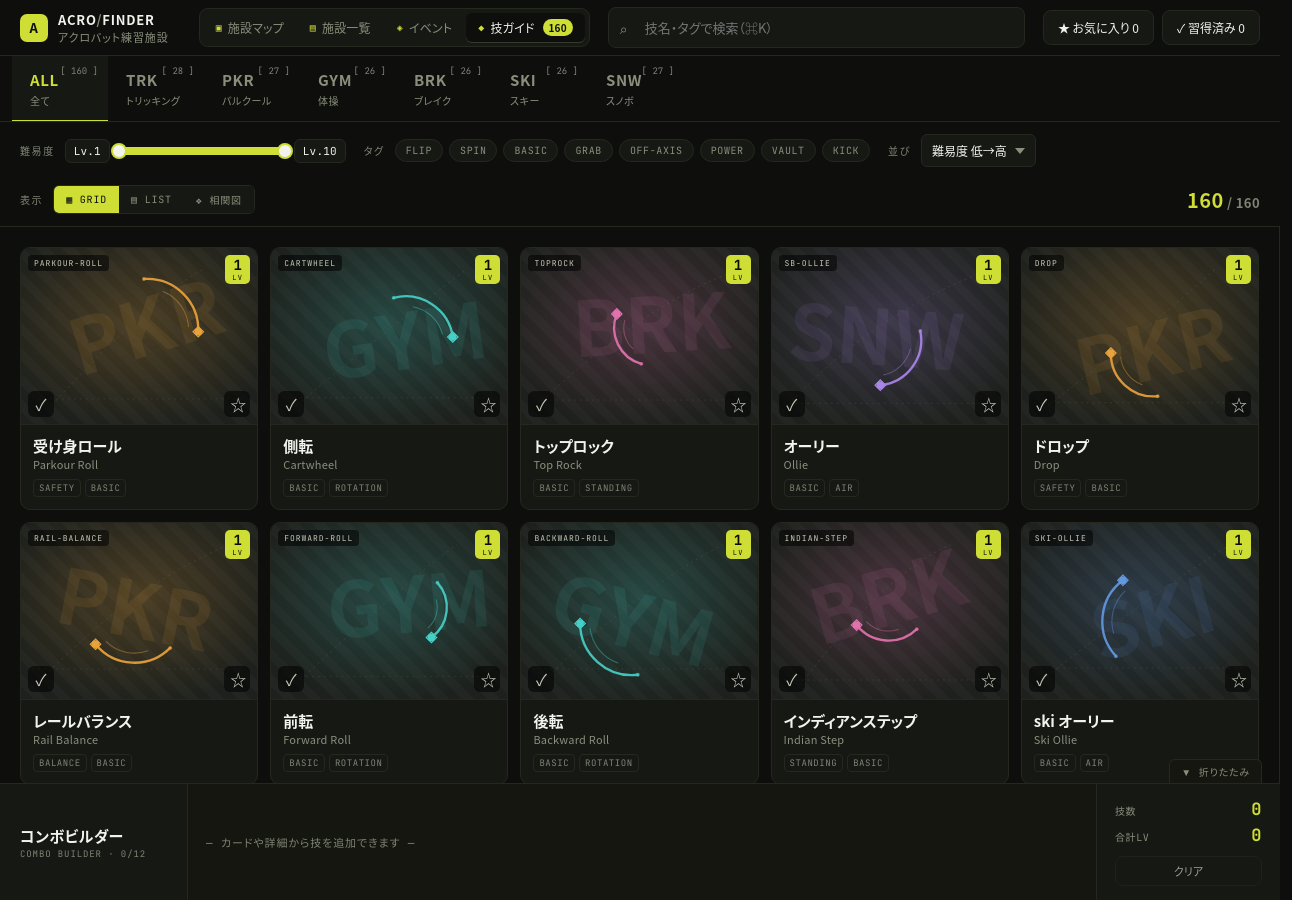
Test: SkillsApp › SHIG review › keeps the panel open when Escape is pressed in the search box
The image size is (1292, 900).
Click the element with class "skl-card" that starts with "PKR" at (139, 378), box [20,247,258,510]
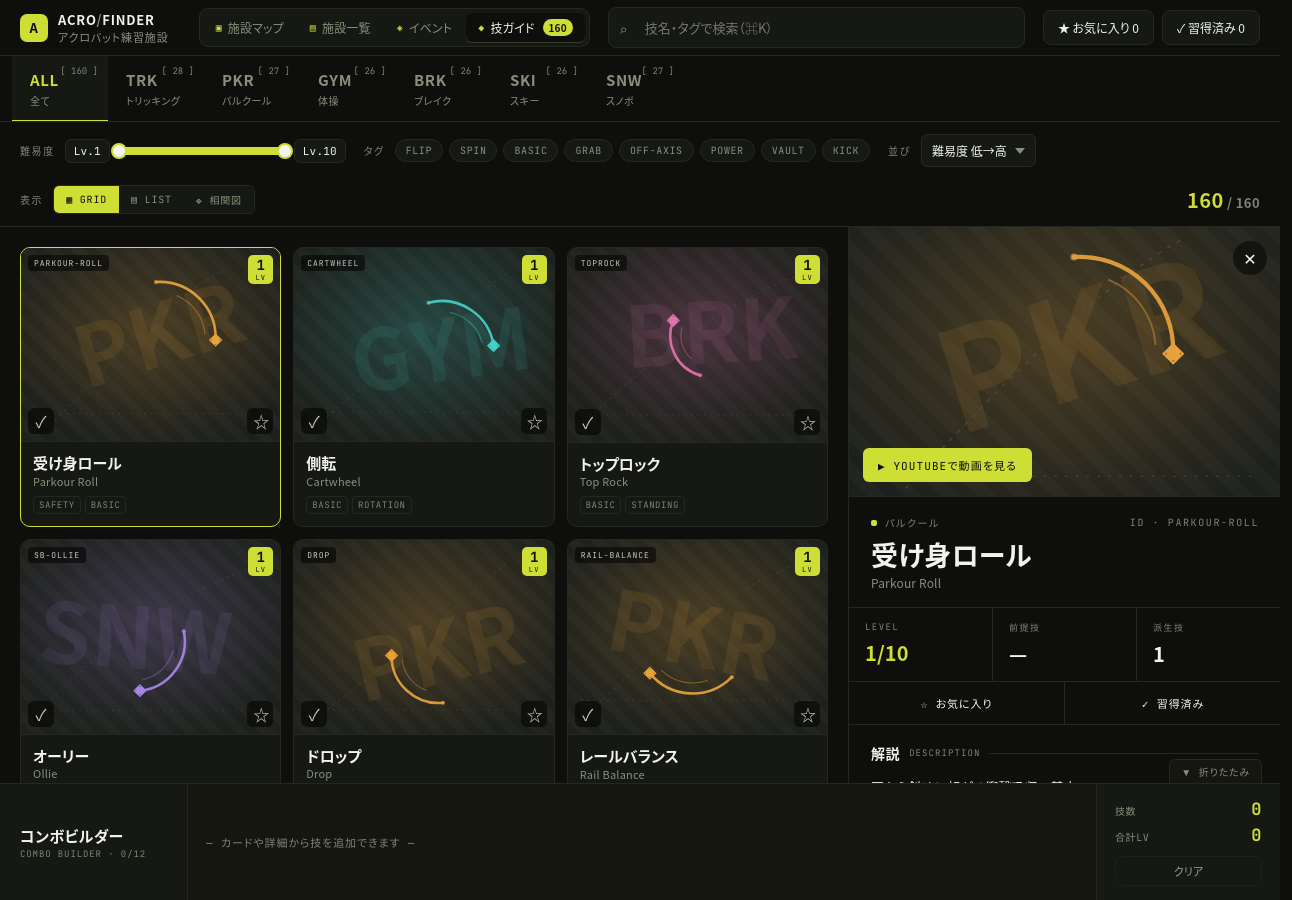
Press Escape in the field with placeholder "技名・タグで検索（⌘K）", box [608,7,1025,48]
Result: the element with class "open" is shown at [848,227,1280,783]
Press Escape
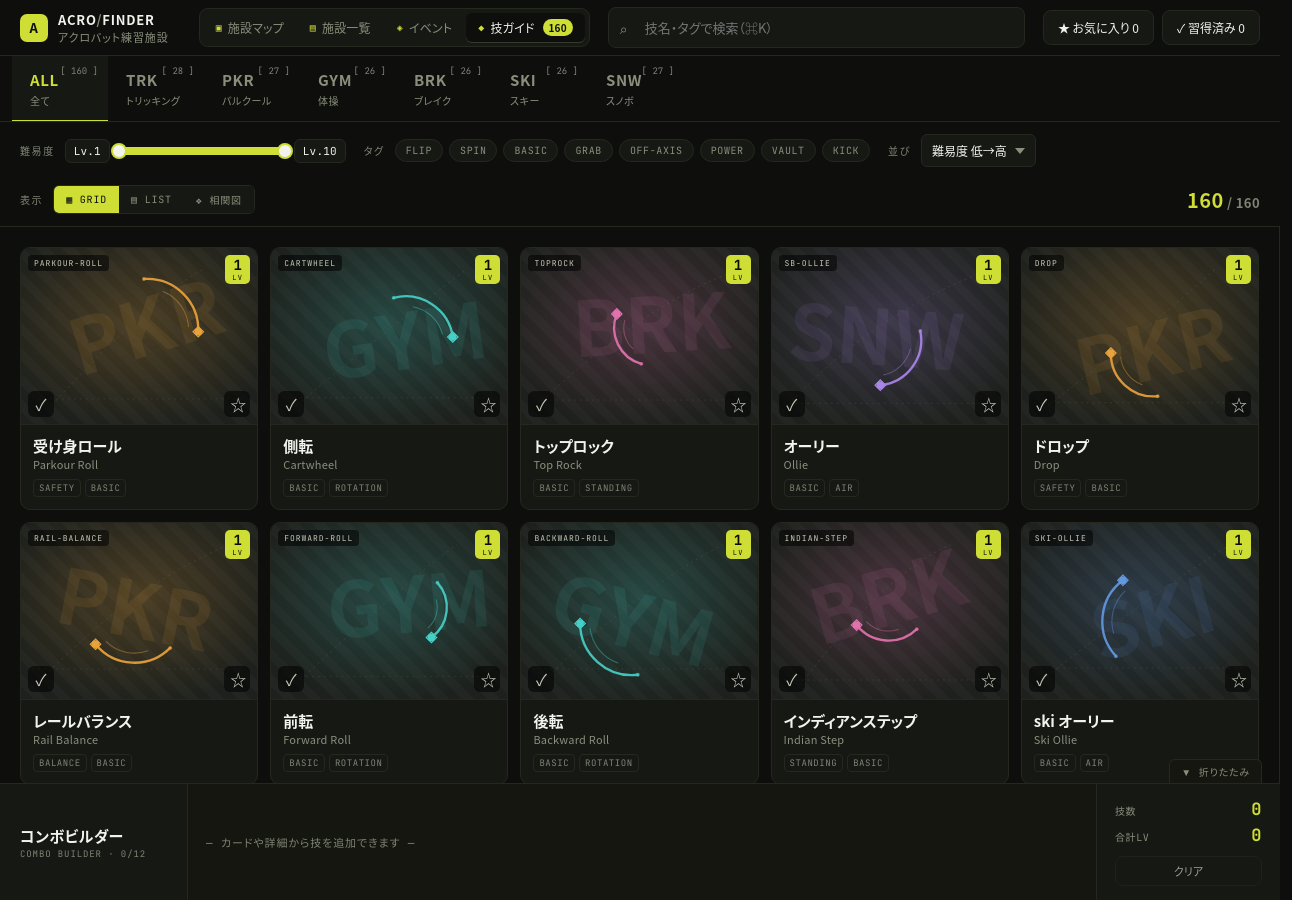
Result: the element with class "open" is gone
